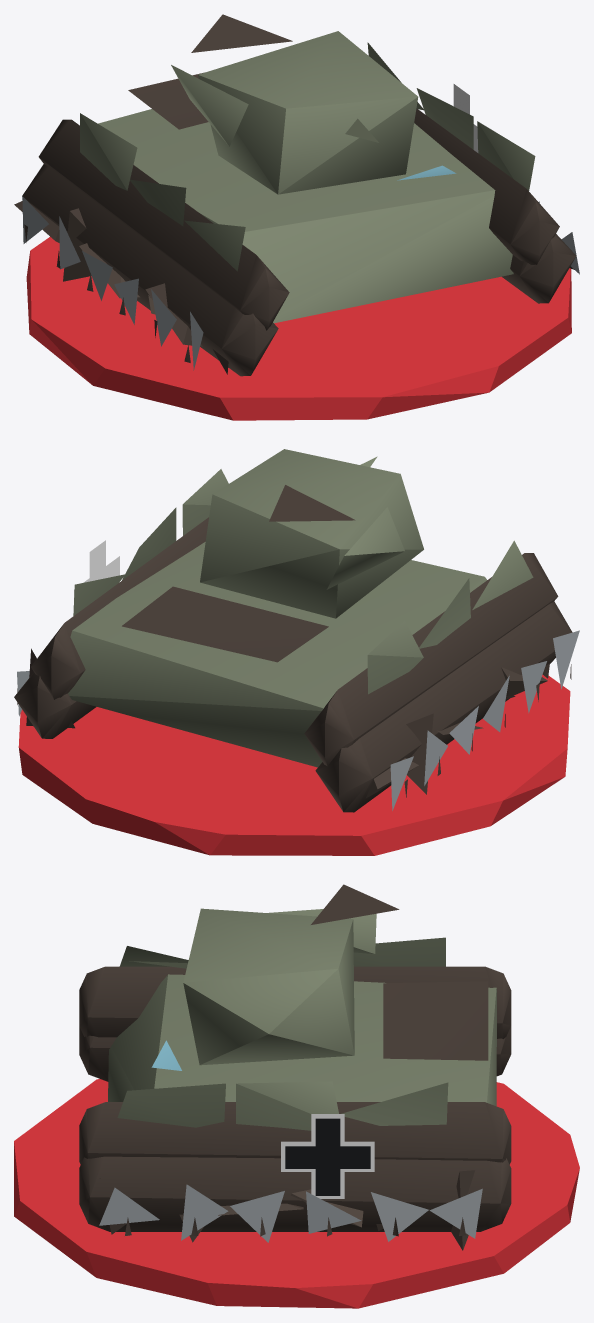
The model's file is germany_infantry_lod1.glb.
3 renders of one model, top to bottom at view 1: azimuth 30°, elevation 25°; view 2: azimuth 150°, elevation 25°; view 3: azimuth 270°, elevation 25°, orthographic. The views are drawn at different scales.
Visible parts, largest first — view 1: body_hull, base_pedestal; view 2: body_hull, base_pedestal; view 3: body_hull, base_pedestal.
Boxes of the visible parts, x1,y1,x2,y2 form: body_hull: (14,14,579,376); base_pedestal: (26,237,571,420); body_hull: (14,449,579,812); base_pedestal: (18,674,570,855); body_hull: (79,884,511,1250); base_pedestal: (14,1079,579,1308).
Size of the model in its own units: 0.7751 by 0.4039 by 0.7751.
